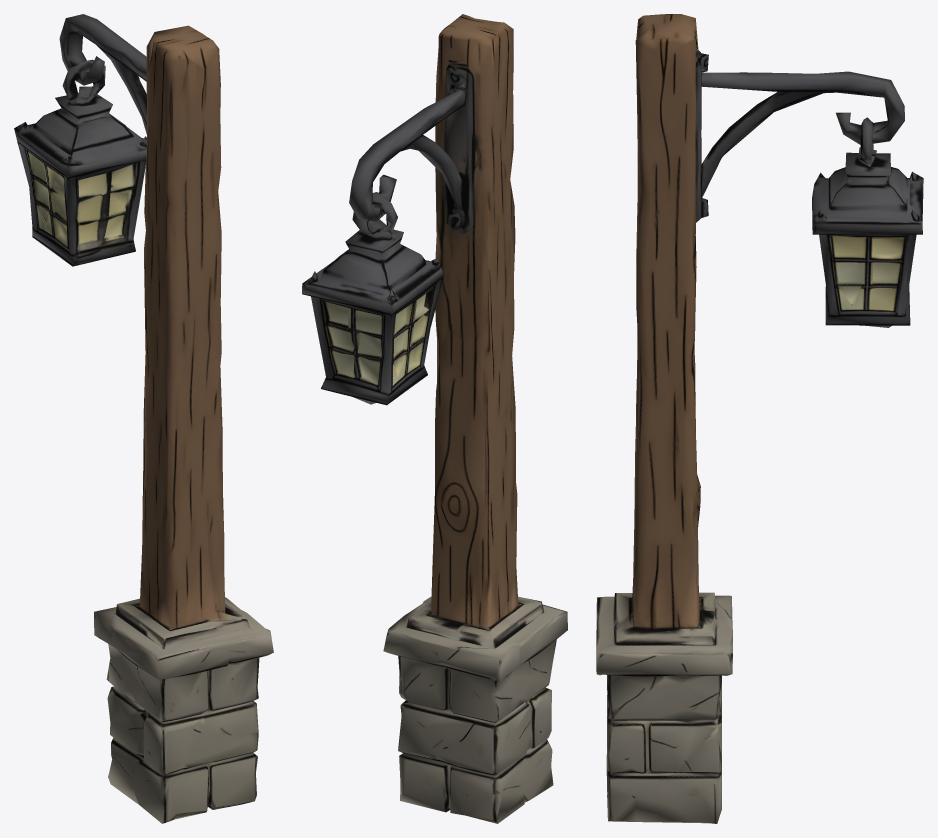
The model's file is medieval_lantern_post.fbx.
3 renders of one model, left to right at view 1: azimuth 30°, elevation 25°; view 2: azimuth 150°, elevation 25°; view 3: azimuth 270°, elevation 25°, orthographic. The views are drawn at different scales.
Parts seen in each view (by area): view 1: tripo_node_9141e96f; view 2: tripo_node_9141e96f; view 3: tripo_node_9141e96f.
Part boxes in pixels (x1=…): tripo_node_9141e96f: x1=14, y1=14, x2=273, y2=823; tripo_node_9141e96f: x1=302, y1=14, x2=567, y2=823; tripo_node_9141e96f: x1=596, y1=14, x2=923, y2=823.
Bounding box in the file's own units: 0.3198 × 2 × 0.7647.
Materials: 1 (1 with a texture image).
